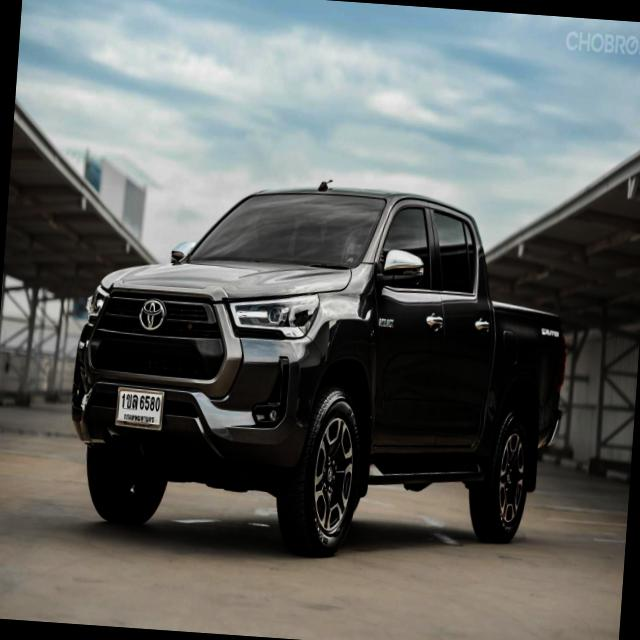license_plate: (111, 381, 166, 434)
